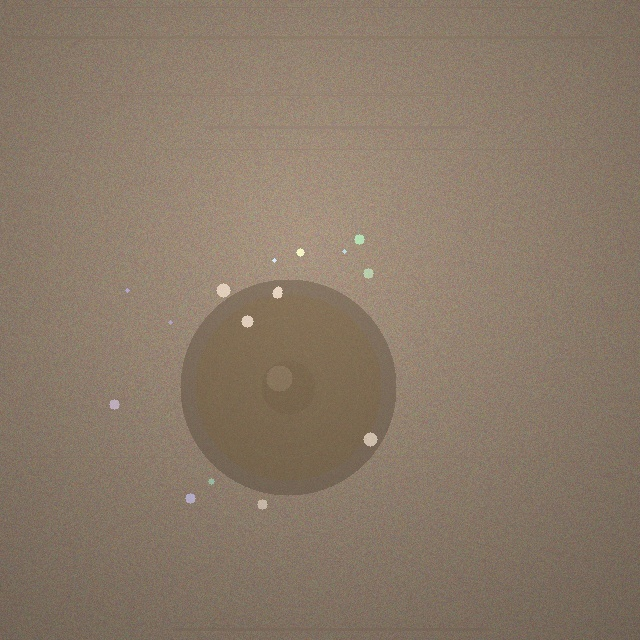overburn: (180, 279, 396, 495)
